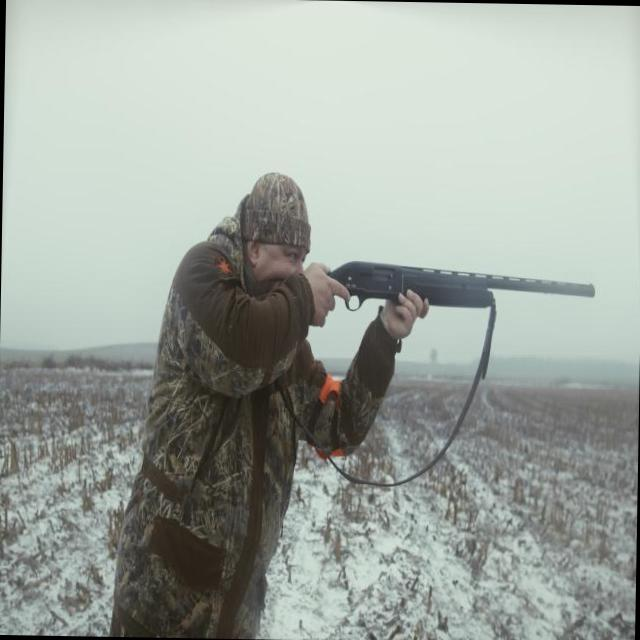ranger: (93, 103, 369, 614)
weapon: (336, 248, 600, 327)
